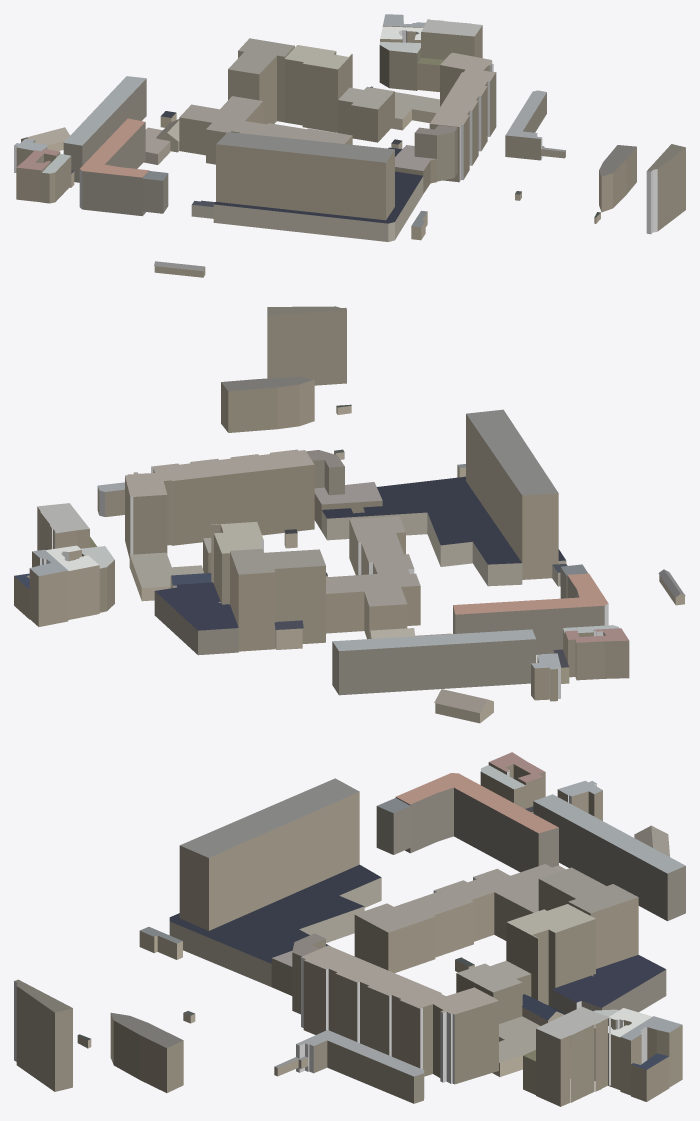
The picture shows the model from 3 angles, top to bottom: view 1: azimuth 30°, elevation 25°; view 2: azimuth 150°, elevation 25°; view 3: azimuth 270°, elevation 25°; orthographic projection. The views are drawn at different scales.
Visible parts, largest first — view 1: tuile; view 2: tuile; view 3: tuile.
Boxes of the visible parts, left/top/right/bottom form: tuile: left=14, top=14, right=685, bottom=277; tuile: left=14, top=306, right=685, bottom=723; tuile: left=14, top=752, right=685, bottom=1106.
Bounding box in the file's own units: 276 × 48.75 × 258.
